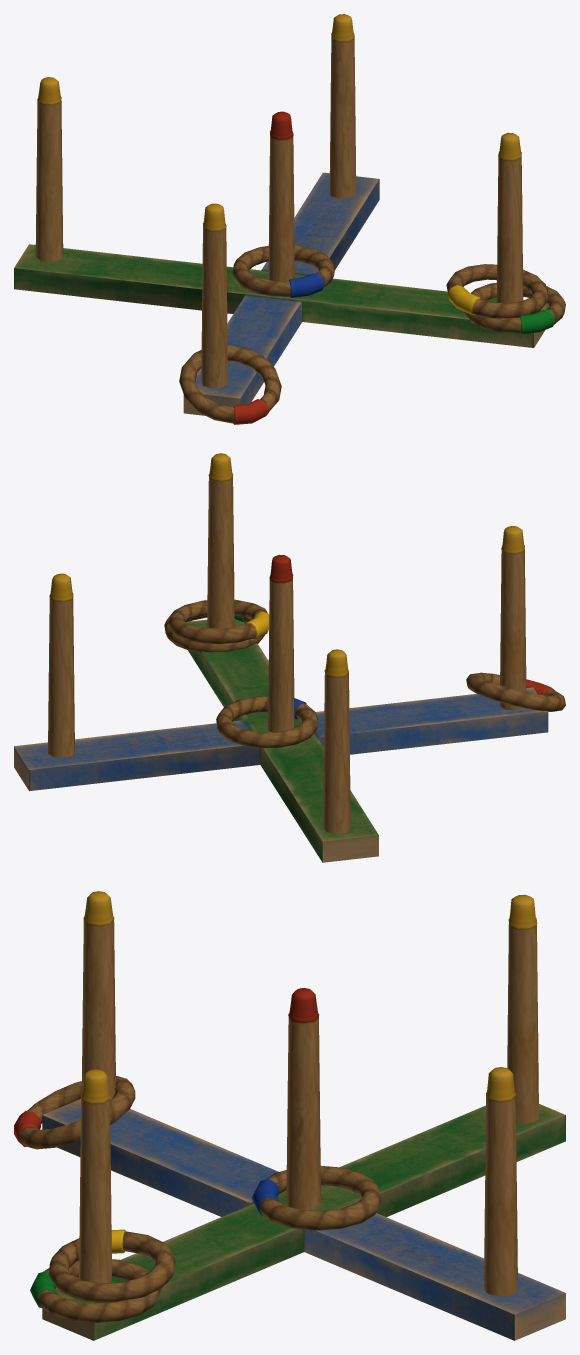
File: ThrowingRings_Cross_Scaled.fbx
The picture shows the model from 3 angles, top to bottom: view 1: azimuth 30°, elevation 25°; view 2: azimuth 150°, elevation 25°; view 3: azimuth 270°, elevation 25°; orthographic projection. The views are drawn at different scales.
Visible parts, largest first — view 1: ThrowingRing_CrossBody, ThrowingRing_Pole8, ThrowingRing_Pole9, ThrowingRing_Pole10, ThrowingRing_Pole1, ThrowingRing_Pole7, ThrowingRing_Ring5, ThrowingRing_Ring4, ThrowingRing_Ring3, ThrowingRing_Ring1; view 2: ThrowingRing_CrossBody, ThrowingRing_Pole8, ThrowingRing_Pole10, ThrowingRing_Pole1, ThrowingRing_Pole7, ThrowingRing_Pole9, ThrowingRing_Ring4, ThrowingRing_Ring3, ThrowingRing_Ring5, ThrowingRing_Ring1; view 3: ThrowingRing_CrossBody, ThrowingRing_Pole10, ThrowingRing_Pole7, ThrowingRing_Pole1, ThrowingRing_Pole8, ThrowingRing_Pole9, ThrowingRing_Ring3, ThrowingRing_Ring4, ThrowingRing_Ring1, ThrowingRing_Ring5.
Part boxes in pixels (x1,y1,x2,y2): ThrowingRing_CrossBody: (14, 172, 549, 415); ThrowingRing_Pole8: (35, 77, 63, 261); ThrowingRing_Pole9: (201, 203, 227, 388); ThrowingRing_Pole10: (329, 14, 356, 198); ThrowingRing_Pole1: (496, 132, 523, 303); ThrowingRing_Pole7: (268, 111, 294, 281); ThrowingRing_Ring5: (179, 344, 281, 424); ThrowingRing_Ring4: (232, 245, 335, 297); ThrowingRing_Ring3: (446, 264, 548, 318); ThrowingRing_Ring1: (464, 282, 565, 334); ThrowingRing_CrossBody: (14, 619, 548, 862); ThrowingRing_Pole8: (323, 649, 350, 833); ThrowingRing_Pole10: (48, 573, 74, 757); ThrowingRing_Pole1: (207, 453, 234, 628); ThrowingRing_Pole7: (268, 554, 294, 732); ThrowingRing_Pole9: (499, 526, 526, 710); ThrowingRing_Ring4: (216, 696, 318, 748); ThrowingRing_Ring3: (168, 599, 269, 644); ThrowingRing_Ring5: (466, 672, 565, 711); ThrowingRing_Ring1: (164, 612, 264, 652); ThrowingRing_CrossBody: (42, 1099, 565, 1340); ThrowingRing_Pole10: (484, 1067, 517, 1296); ThrowingRing_Pole7: (286, 988, 320, 1210); ThrowingRing_Pole1: (79, 1069, 111, 1283); ThrowingRing_Pole8: (507, 894, 538, 1123); ThrowingRing_Pole9: (81, 891, 115, 1100); ThrowingRing_Ring3: (48, 1229, 175, 1302); ThrowingRing_Ring4: (252, 1166, 382, 1230); ThrowingRing_Ring1: (30, 1259, 160, 1322); ThrowingRing_Ring5: (14, 1076, 135, 1149).
Size of the model in its own units: 57.66 by 28.55 by 58.12.
